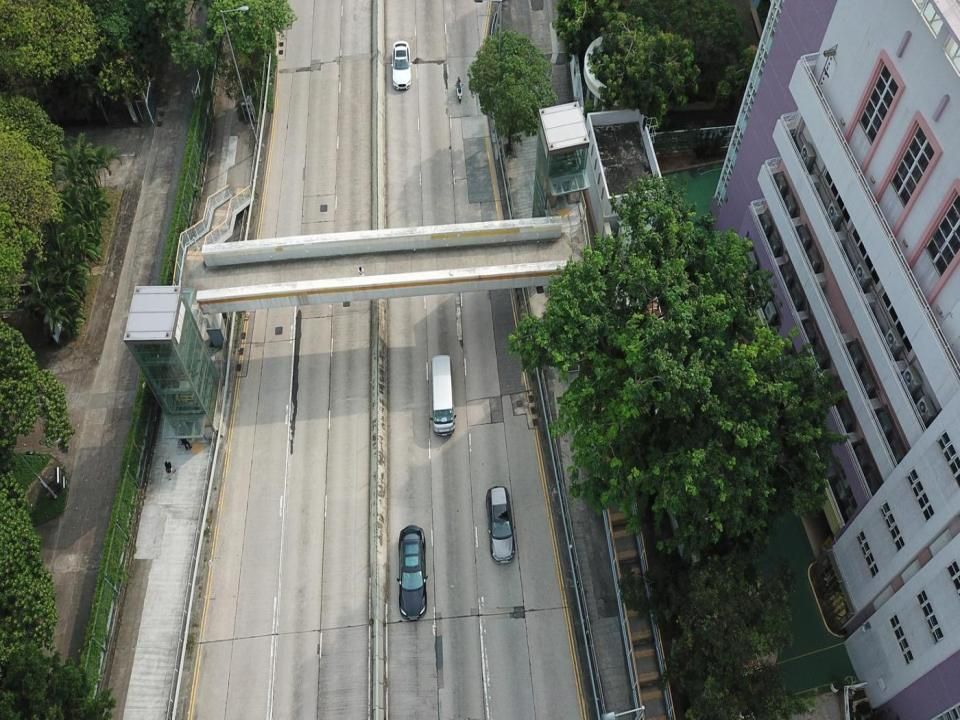car: (396, 526, 428, 622), (485, 487, 516, 563), (391, 41, 412, 91)
van: (430, 354, 457, 438)
